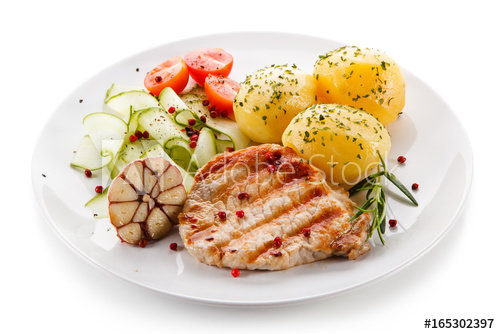boiled potatoes: (236, 49, 414, 183)
